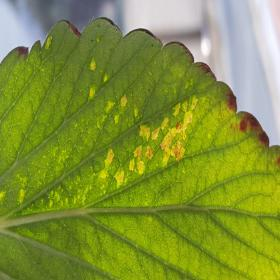Angular Leafspot: (0, 51, 225, 223)
